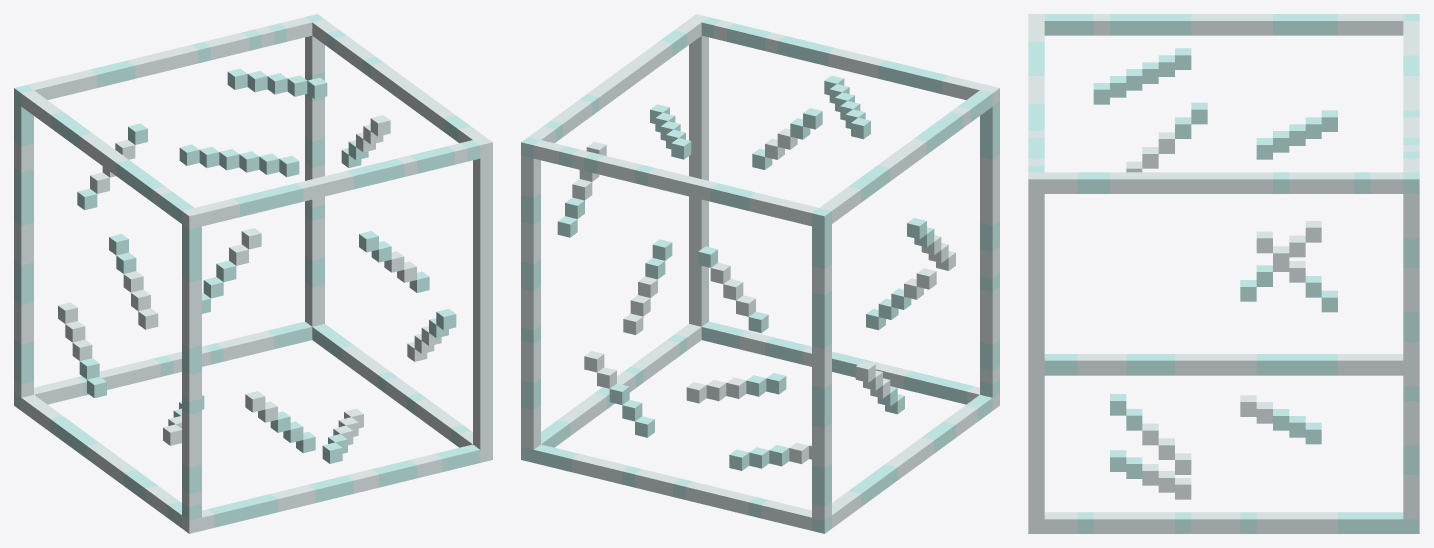
Rendered from glass24x24x24.obj.
The picture shows the model from 3 angles, left to right: view 1: azimuth 30°, elevation 25°; view 2: azimuth 150°, elevation 25°; view 3: azimuth 270°, elevation 25°; orthographic projection. The views are drawn at different scales.
Parts seen in each view (by area): view 1: glass24x24x24; view 2: glass24x24x24; view 3: glass24x24x24.
Boxes of the visible parts, x1,y1,x2,y2 form: glass24x24x24: (14,14,492,533); glass24x24x24: (521,14,999,533); glass24x24x24: (1028,14,1419,533).
Size of the model in its own units: 24 by 24 by 24.
Materials: 1 (1 with a texture image).
